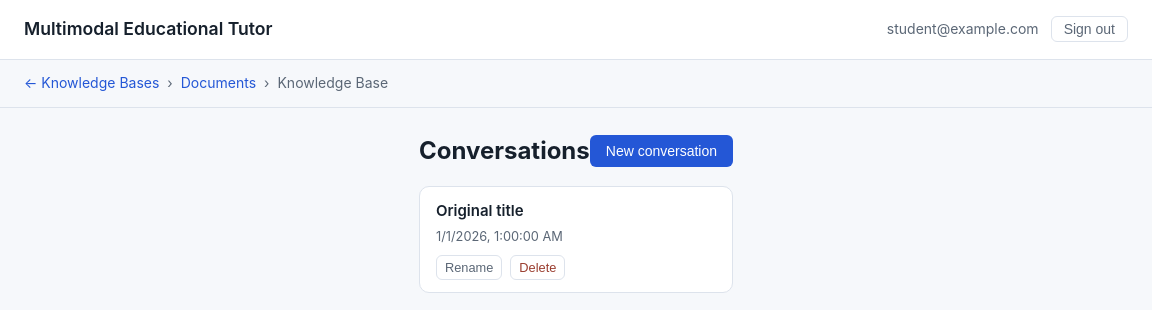
Conversation list › renames a conversation and updates the title in the list
Expected: the text "Original title" is shown, [436,201,524,220]
Click the button "Rename" at x=469, y=268, box [436,255,502,280]
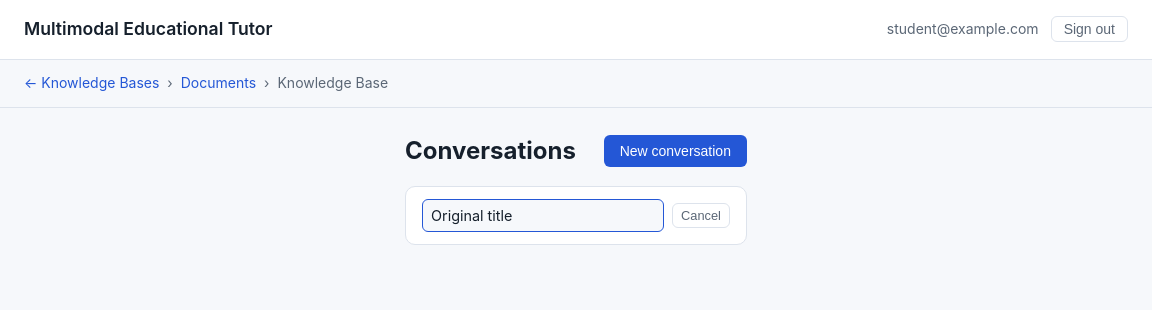
Replace the text in the field named "Conversation title" with "Updated title" at x=543, y=215, box [422,199,664,232]
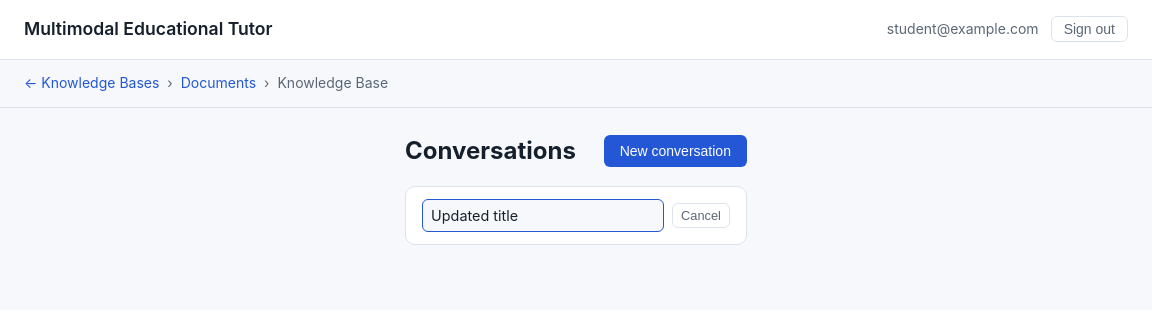
Press Enter
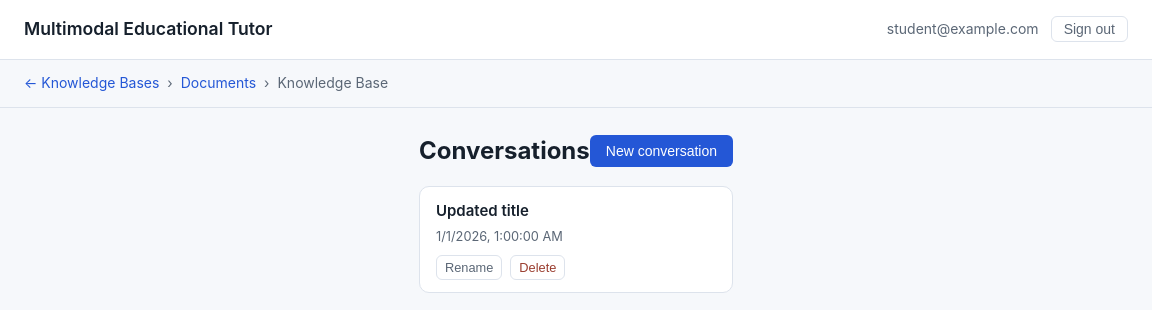
Expected: the text "Updated title" is shown, [436,201,529,220]
